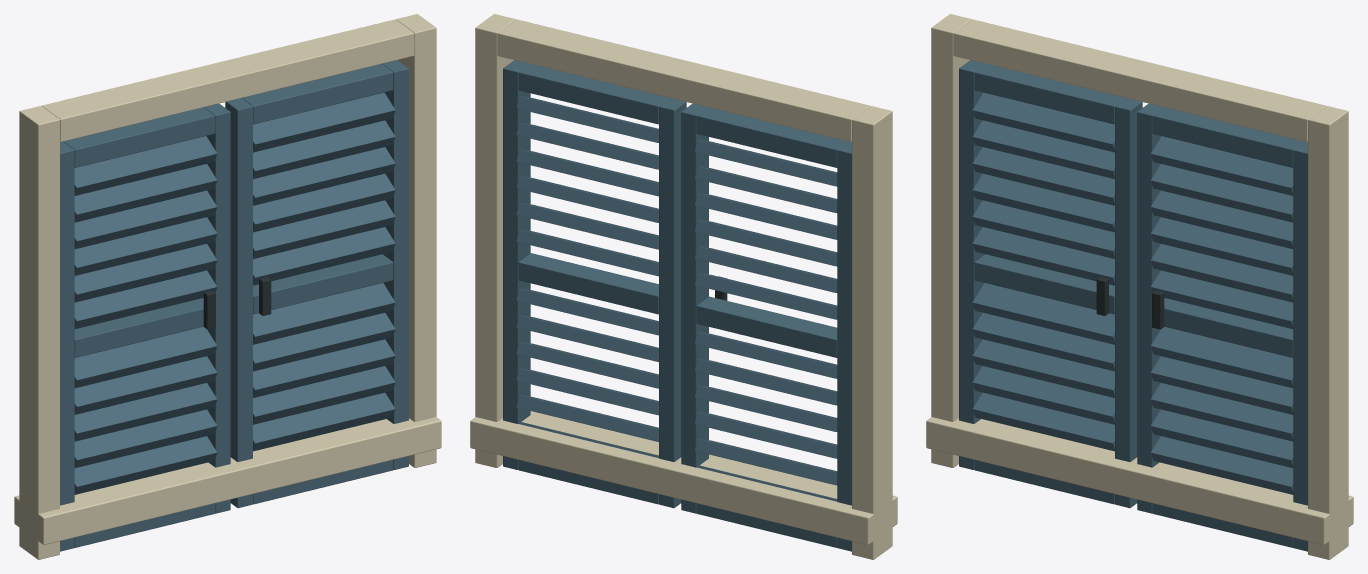
File: source-edit.glb
3 views of the same model, side by side, from view 1: azimuth 30°, elevation 25°; view 2: azimuth 150°, elevation 25°; view 3: azimuth 330°, elevation 25° (orthographic).
Parts seen in each view (by area): view 1: FRAME_Jamb, FRAME_Sill, FRAME_Head, FRAME_Jamb.001, Right_Stile.001, Right_Stile, Left_Stile.001, Left_Stile, Left_Louver_5, Left_Rail.002, Right_Louver_5, Right_Rail.002 (+24 smaller); view 2: FRAME_Sill, FRAME_Jamb, FRAME_Head, FRAME_Jamb.001, Right_Stile.001, Left_Stile.001, Right_Stile, Left_Stile, Left_Rail.001, Right_Rail.001, Left_Rail.002, Right_Rail.002 (+24 smaller); view 3: FRAME_Jamb.001, FRAME_Sill, FRAME_Head, FRAME_Jamb, Left_Stile.001, Left_Stile, Right_Stile.001, Right_Stile, Right_Louver_5, Right_Rail.002, Left_Louver_5, Left_Rail.002 (+24 smaller).
Boxes of the visible parts, bbox=[...] form: FRAME_Jamb: bbox=[19, 106, 59, 559]; FRAME_Sill: bbox=[14, 417, 441, 544]; FRAME_Head: bbox=[42, 19, 414, 141]; FRAME_Jamb.001: bbox=[396, 14, 436, 467]; Right_Stile.001: bbox=[225, 98, 252, 508]; Right_Stile: bbox=[382, 60, 408, 469]; Left_Stile.001: bbox=[204, 103, 230, 513]; Left_Stile: bbox=[60, 141, 74, 551]; Left_Louver_5: bbox=[74, 326, 217, 388]; Left_Rail.002: bbox=[63, 107, 215, 167]; Right_Louver_5: bbox=[253, 283, 395, 344]; Right_Rail.002: bbox=[241, 64, 393, 124]; FRAME_Sill: bbox=[470, 411, 897, 544]; FRAME_Jamb: bbox=[852, 106, 892, 559]; FRAME_Head: bbox=[497, 19, 869, 141]; FRAME_Jamb.001: bbox=[475, 14, 515, 467]; Right_Stile.001: bbox=[659, 98, 686, 508]; Left_Stile.001: bbox=[681, 103, 708, 513]; Right_Stile: bbox=[503, 60, 530, 469]; Left_Stile: bbox=[837, 141, 851, 551]; Left_Rail.001: bbox=[696, 296, 837, 357]; Right_Rail.001: bbox=[518, 253, 658, 314]; Left_Rail.002: bbox=[696, 107, 848, 167]; Right_Rail.002: bbox=[518, 64, 670, 124]; FRAME_Jamb.001: bbox=[1308, 106, 1348, 559]; FRAME_Sill: bbox=[926, 417, 1353, 544]; FRAME_Head: bbox=[953, 19, 1325, 141]; FRAME_Jamb: bbox=[931, 14, 971, 467]; Left_Stile.001: bbox=[1115, 98, 1142, 508]; Left_Stile: bbox=[959, 60, 985, 469]; Right_Stile.001: bbox=[1137, 103, 1163, 513]; Right_Stile: bbox=[1293, 141, 1307, 551]; Right_Louver_5: bbox=[1150, 326, 1293, 388]; Right_Rail.002: bbox=[1152, 107, 1304, 167]; Left_Louver_5: bbox=[972, 283, 1114, 344]; Left_Rail.002: bbox=[974, 64, 1126, 124].
Size of the model in its own units: 1.8 by 1.88 by 0.23.
